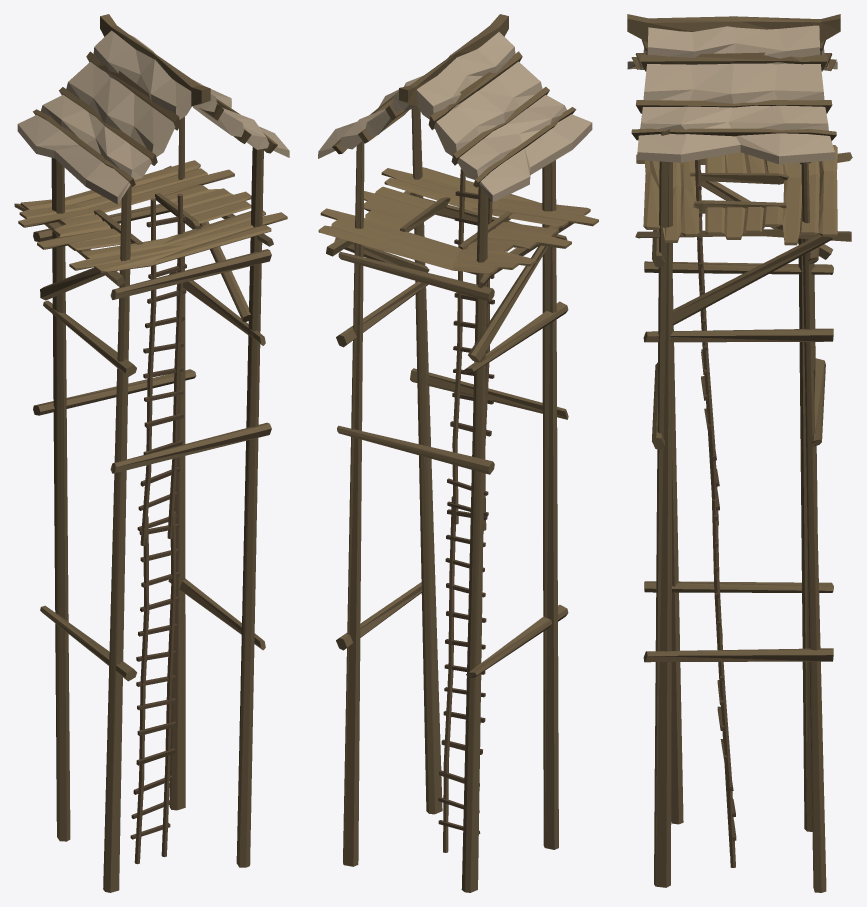
The model's file is SM_Bld_Rickety_Tower_03.glb.
The picture shows the model from 3 angles, left to right: view 1: azimuth 30°, elevation 25°; view 2: azimuth 150°, elevation 25°; view 3: azimuth 270°, elevation 25°; orthographic projection. The views are drawn at different scales.
Parts seen in each view (by area): view 1: SM_Bld_Rickety_Tower_03_part00; view 2: SM_Bld_Rickety_Tower_03_part00; view 3: SM_Bld_Rickety_Tower_03_part00.
Part boxes in pixels (x1,y1,x2,y2): SM_Bld_Rickety_Tower_03_part00: [14, 14, 289, 892]; SM_Bld_Rickety_Tower_03_part00: [318, 14, 598, 892]; SM_Bld_Rickety_Tower_03_part00: [627, 14, 852, 892].
Size of the model in its own units: 4.06 by 14.26 by 3.44.
Materials: 1 (1 with a texture image).
